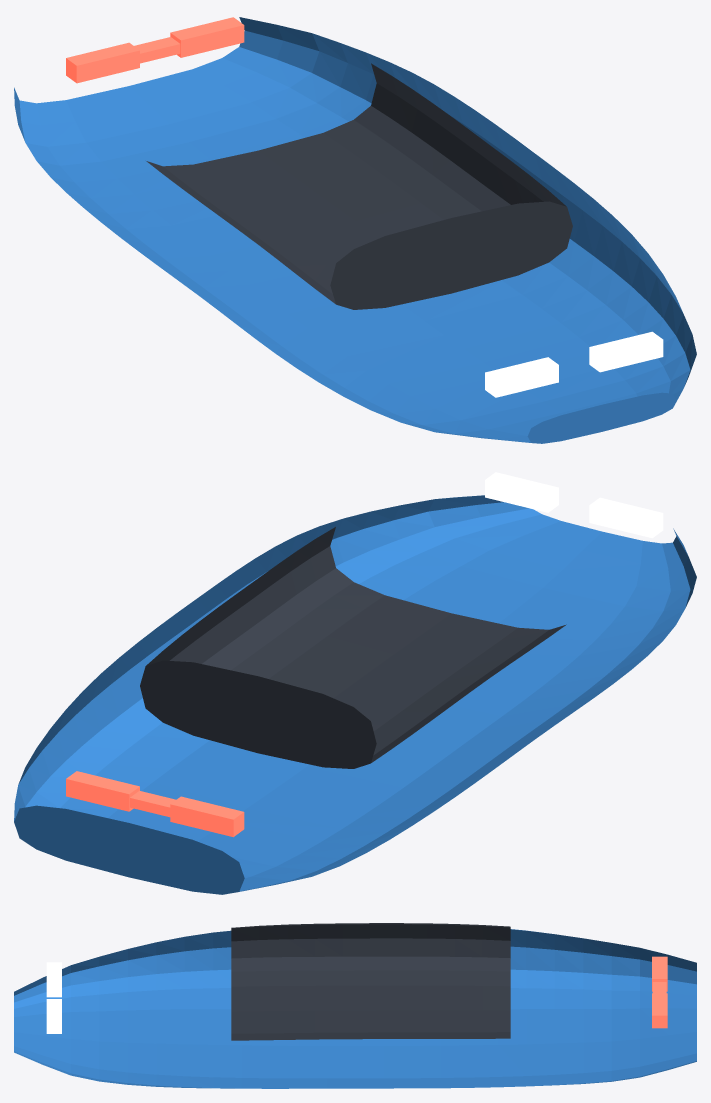
The model's file is roadster-1.glb.
The picture shows the model from 3 angles, top to bottom: view 1: azimuth 30°, elevation 25°; view 2: azimuth 150°, elevation 25°; view 3: azimuth 270°, elevation 25°; orthographic projection. The views are drawn at different scales.
Bounding box in the file's own units: 1.91 × 0.6702 × 4.4.
